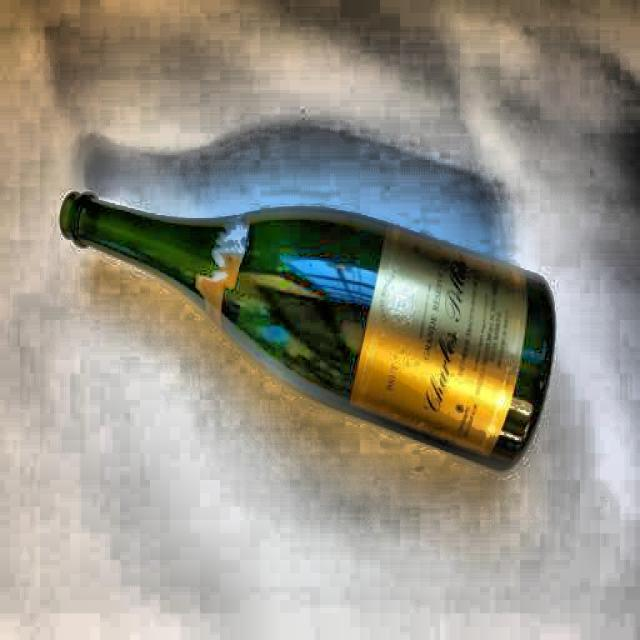glass: (58, 177, 562, 468)
